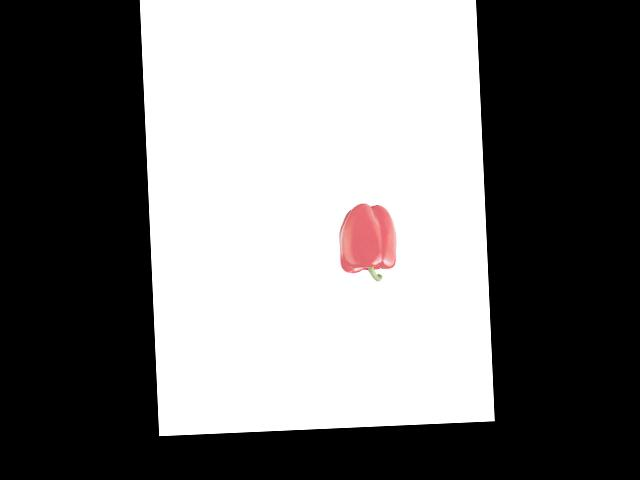bell_pepper: (333, 199, 401, 283)
